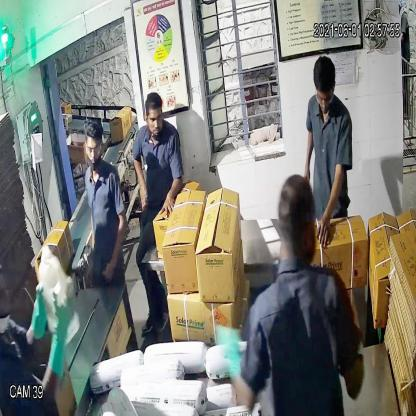goggles: (312, 86, 338, 110), (82, 138, 104, 160)
